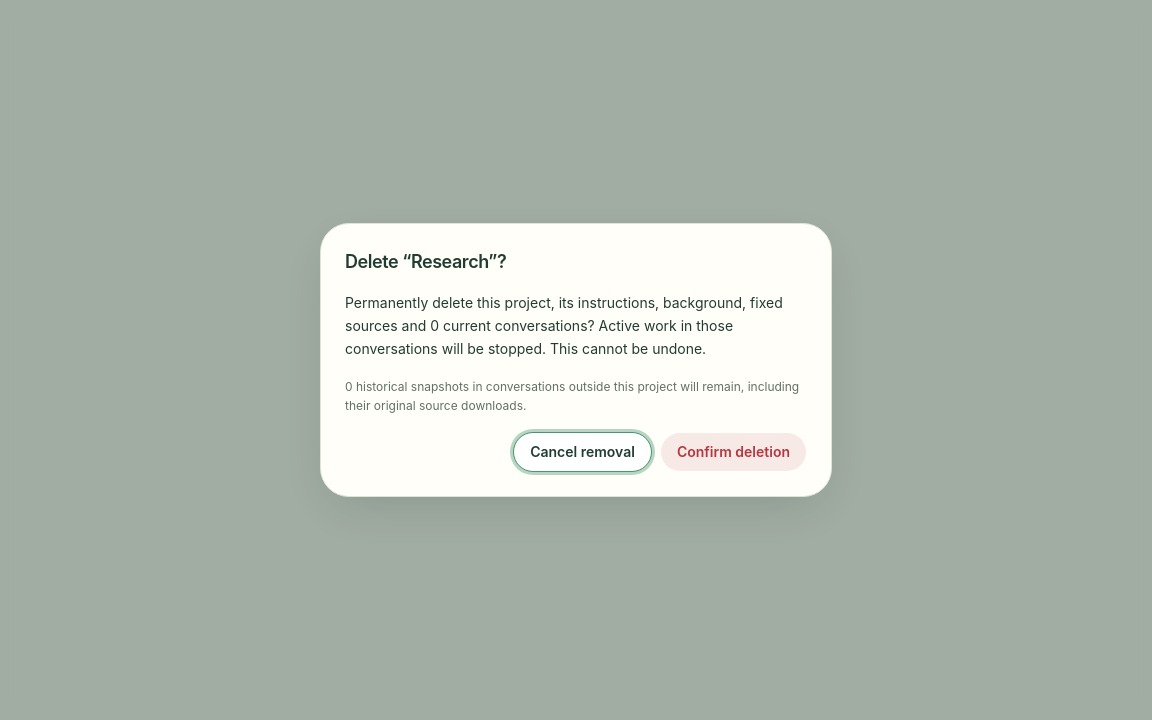
Test: a changed project must be reviewed and explicitly confirmed again before deletion
Later steps or results of the test are not shown.
Click the button "Confirm deletion" at (733, 452), box x1=660 y1=432 x2=807 y2=472
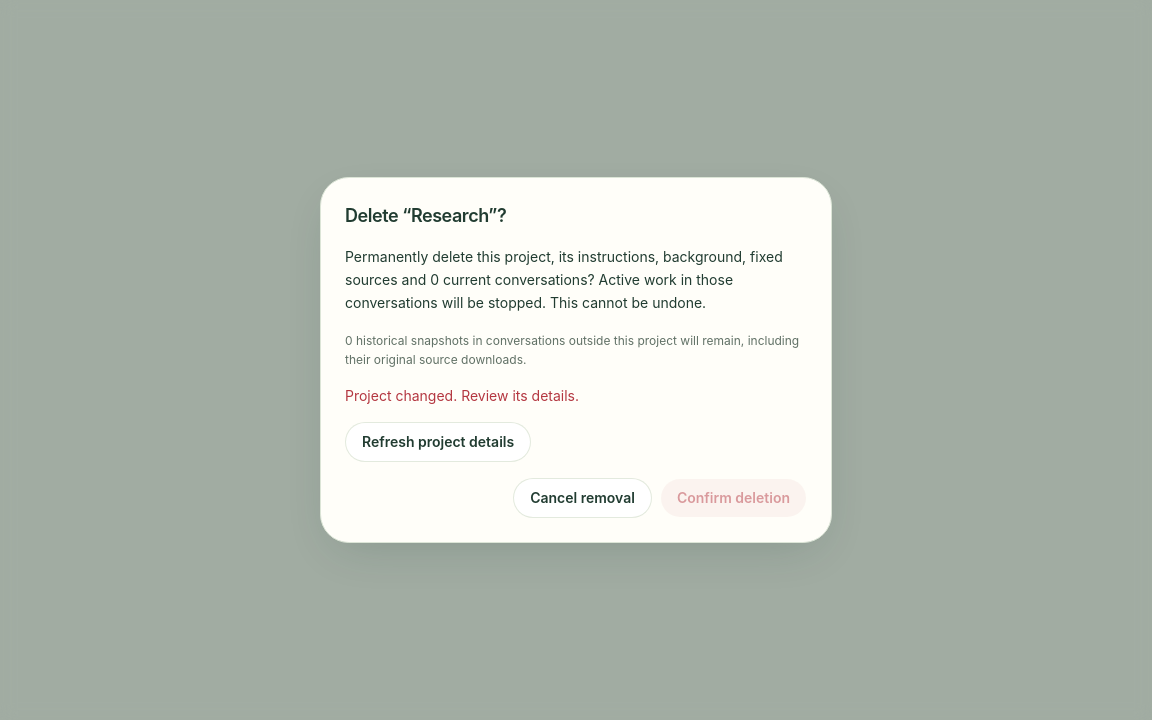
Expected: the message "Project changed. Review its details." is shown, x1=345 y1=387 x2=579 y2=404
Expected: the button "Confirm deletion" is disabled, x1=660 y1=478 x2=807 y2=518
Click the button "Refresh project details" at (438, 442), box x1=345 y1=422 x2=531 y2=462
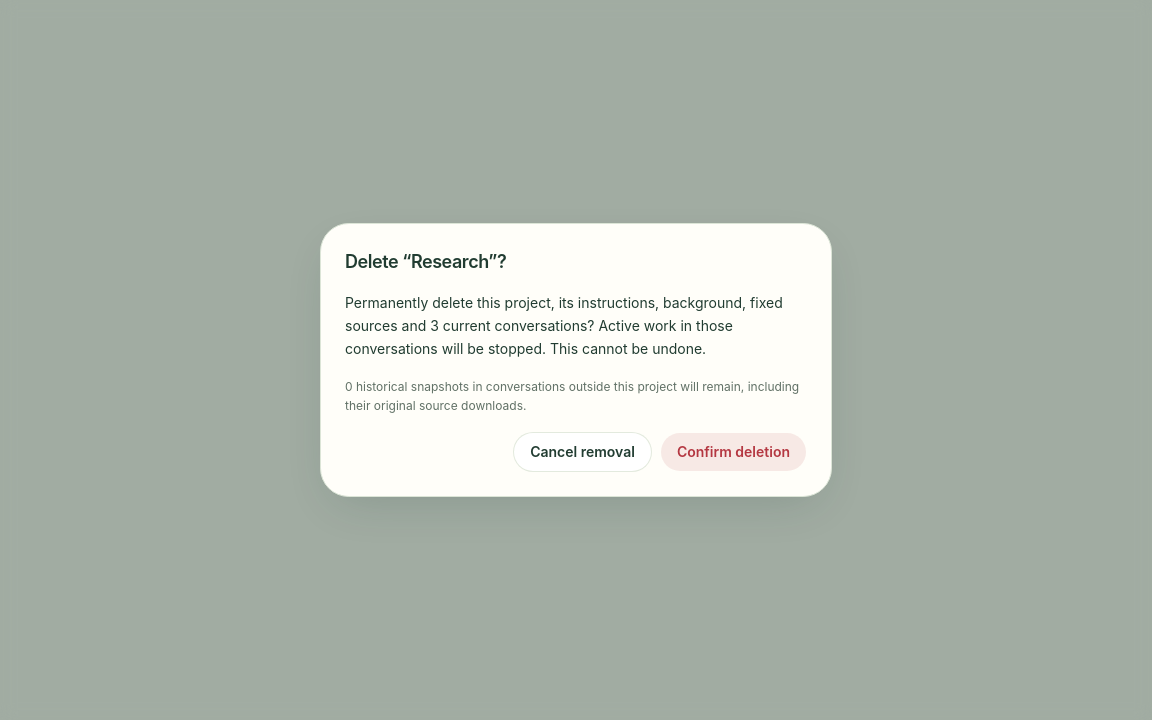
Expected: the text "3 current conversations" is shown, x1=345 y1=294 x2=783 y2=357
